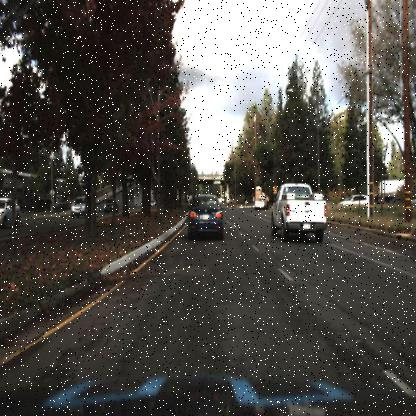car: (268, 176, 332, 248), (184, 189, 226, 244), (341, 186, 378, 216), (0, 196, 21, 229), (69, 192, 88, 222), (100, 194, 120, 221), (340, 193, 372, 209), (253, 186, 268, 210), (101, 197, 118, 215), (254, 184, 265, 211)
